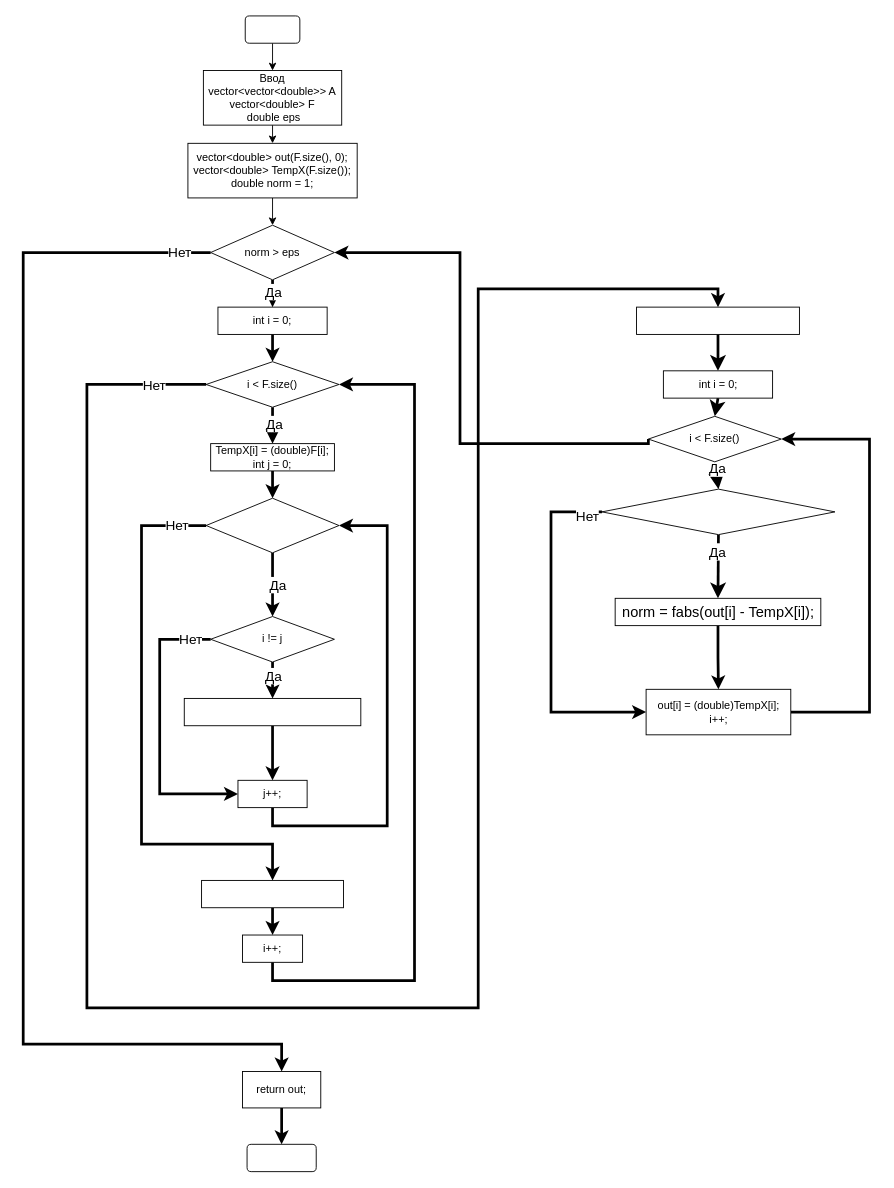
The diagram is 894 pixels wide and 1188 high, and some of its shapes have lost their labels. The centre of each missing label's shape, as x and y in pixels:
"j < F.size()" belongs at (272,525).
"norm = fabs(out[0] - TempX[0]);" belongs at (717,320).
"TempX[i] -= (double)(A[i][j] * out[j]);" belongs at (272,712).
"TempX[i] /= (double)A[i][i];" belongs at (272,894).
"|out[i] - TempX[i]| > norm" belongs at (718,511).
"конец" belongs at (281,1157).
"начало" belongs at (272,29).
